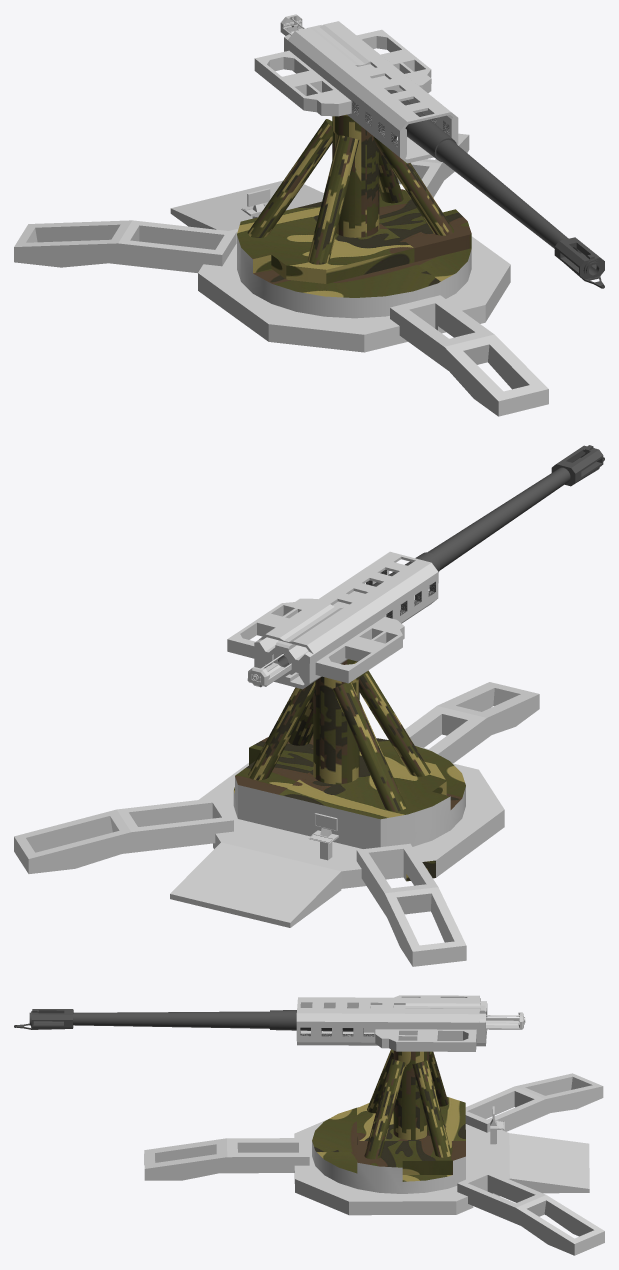
Rendered from jiqiang.FBX.
3 views of the same model, one above another, from view 1: azimuth 30°, elevation 25°; view 2: azimuth 150°, elevation 25°; view 3: azimuth 270°, elevation 25° (orthographic). The views are drawn at different scales.
Visible parts, largest first — view 1: zuojia, ID57, ID521, ID465, ID457, ID529, ID19, ID537, ID325, ID561, ID545, ID65 (+3 smaller); view 2: zuojia, ID57, ID521, ID457, ID529, ID19, ID561, ID325, ID537, ID569, ID465, ID131 (+3 smaller); view 3: zuojia, ID57, ID521, ID19, ID457, ID529, ID465, ID131, ID545, ID569, ID79, ID65 (+3 smaller).
Part boxes in pixels (x1,y1,x2,y2): zuojia: (14, 133, 548, 416); ID57: (284, 21, 458, 163); ID521: (237, 189, 471, 269); ID465: (253, 234, 471, 297); ID457: (237, 235, 471, 318); ID529: (332, 114, 379, 237); ID19: (436, 140, 601, 277); ID537: (307, 135, 359, 264); ID325: (254, 50, 351, 116); ID561: (247, 119, 332, 237); ID545: (373, 136, 454, 235); ID65: (387, 90, 456, 161); zuojia: (14, 682, 539, 966); ID57: (254, 551, 438, 689); ID521: (235, 735, 450, 819); ID457: (233, 777, 465, 848); ID529: (313, 659, 359, 784); ID19: (278, 445, 602, 666); ID561: (332, 682, 406, 811); ID325: (315, 617, 404, 683); ID537: (359, 670, 430, 776); ID569: (248, 681, 315, 780); ID465: (376, 738, 465, 809); ID131: (227, 598, 317, 658); zuojia: (144, 1073, 604, 1255); ID57: (296, 997, 487, 1046); ID521: (357, 1097, 465, 1174); ID19: (29, 1009, 269, 1028); ID457: (312, 1141, 465, 1193); ID529: (393, 1050, 429, 1139); ID465: (312, 1107, 358, 1173); ID131: (375, 1029, 476, 1051); ID545: (364, 1059, 405, 1159); ID569: (412, 1060, 451, 1157); ID79: (14, 1009, 73, 1029); ID65: (269, 1010, 353, 1031).
Size of the model in its own units: 2075 by 961 by 3035.
